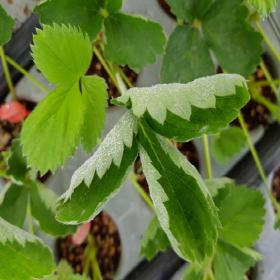Powdery Mildew Leaf: (137, 116, 224, 268), (52, 109, 140, 225), (110, 73, 251, 143), (0, 215, 59, 279)
